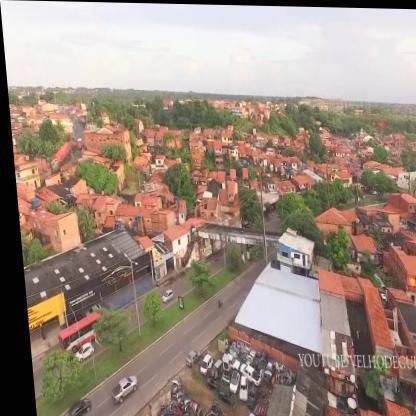lixo: (196, 336, 271, 390)
